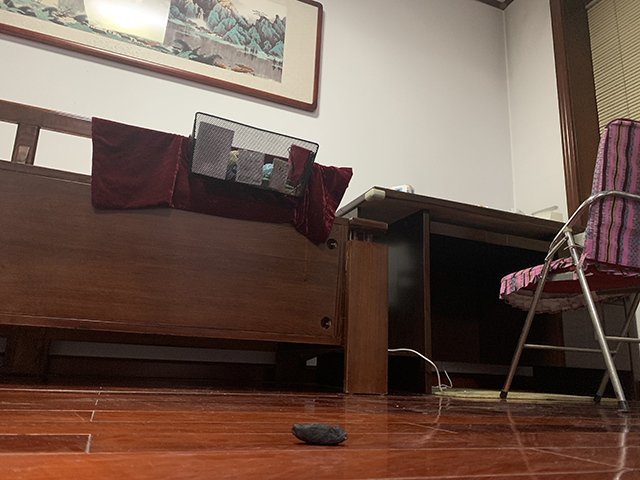bed: (1, 98, 390, 398)
carpet: (430, 384, 619, 403)
feces: (291, 421, 349, 446)
stool: (498, 116, 640, 412)
table: (334, 184, 568, 395)
wire: (388, 346, 454, 391)
